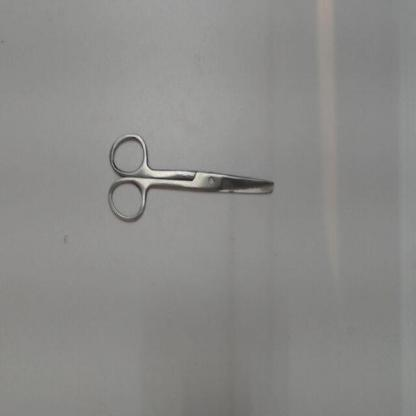Dressing Scissors: (98, 120, 287, 233)
